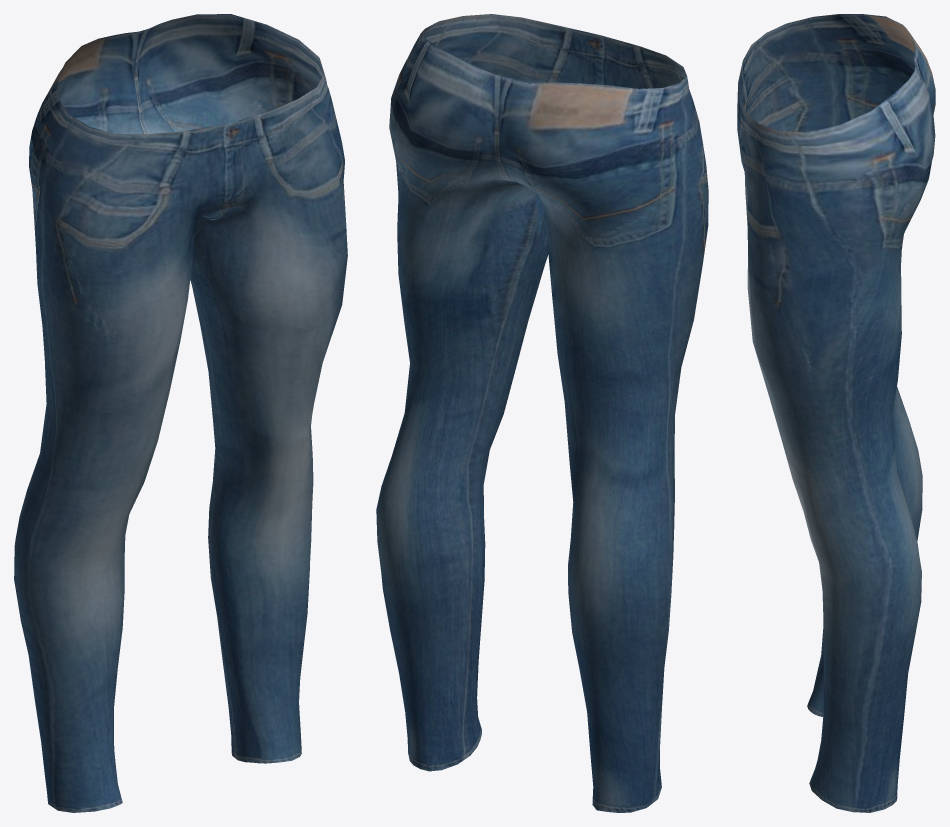
The model's file is bottom_jeans_light.gltf.
3 renders of one model, left to right at view 1: azimuth 30°, elevation 25°; view 2: azimuth 150°, elevation 25°; view 3: azimuth 270°, elevation 25°, orthographic. The views are drawn at different scales.
Visible parts, largest first — view 1: bottom_jeans_light; view 2: bottom_jeans_light; view 3: bottom_jeans_light.
Boxes of the visible parts, <box> form: bottom_jeans_light: <box>14,14,347,812</box>; bottom_jeans_light: <box>376,14,708,812</box>; bottom_jeans_light: <box>737,14,935,812</box>.
Bounding box in the file's own units: 0.3574 × 0.8814 × 0.2257.
1 material, 1 textured.
